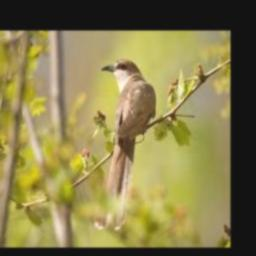Cuckoo: (96, 58, 157, 230)
